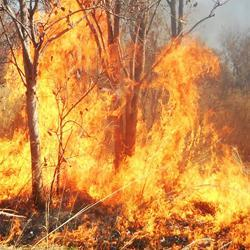fire: (128, 157, 249, 220), (41, 88, 95, 191), (153, 57, 209, 136), (46, 21, 103, 69), (2, 136, 28, 198)
